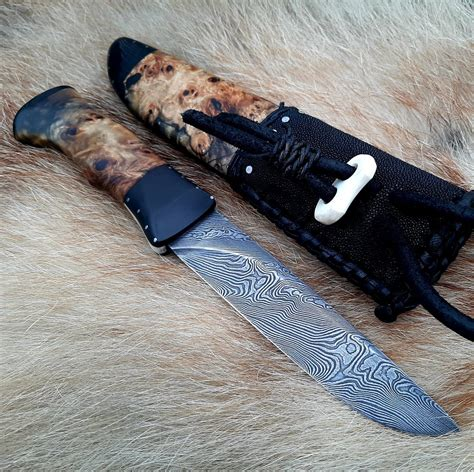knife: (15, 83, 463, 439)
